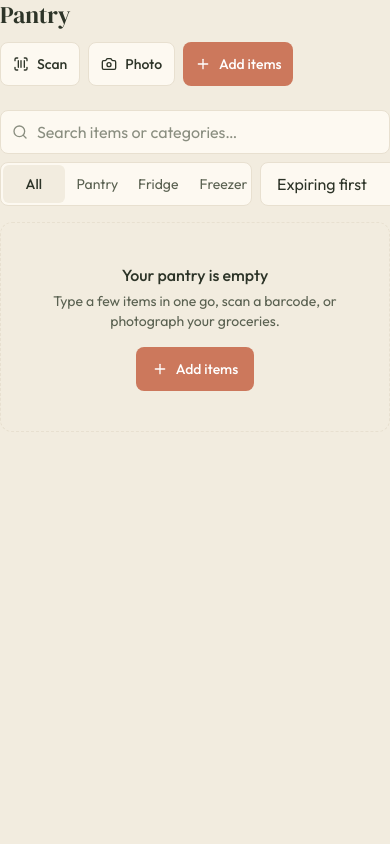
adds several typed items in one go, keeps the unsaved rows after a failure, and closes on success
Click the 1st button "Add items" at {"x": 238, "y": 64}, box x1=183 y1=42 x2=294 y2=86
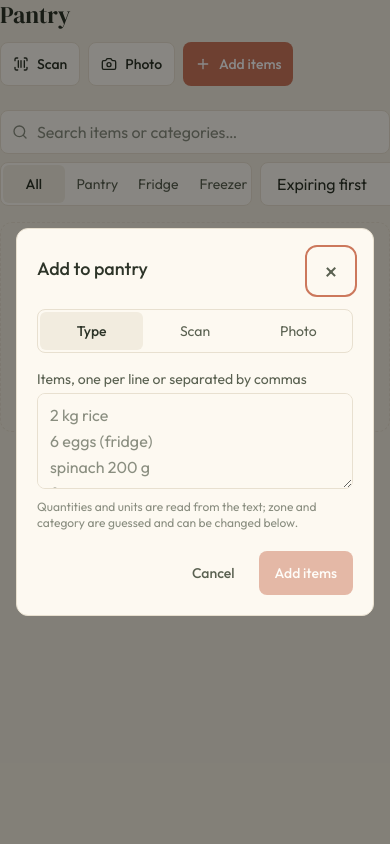
Type "2 kg rice, 6 eggs (fridge)" into the text box labelled "Items, one per line or separated by commas" at {"x": 195, "y": 441}, box x1=37 y1=393 x2=353 y2=489
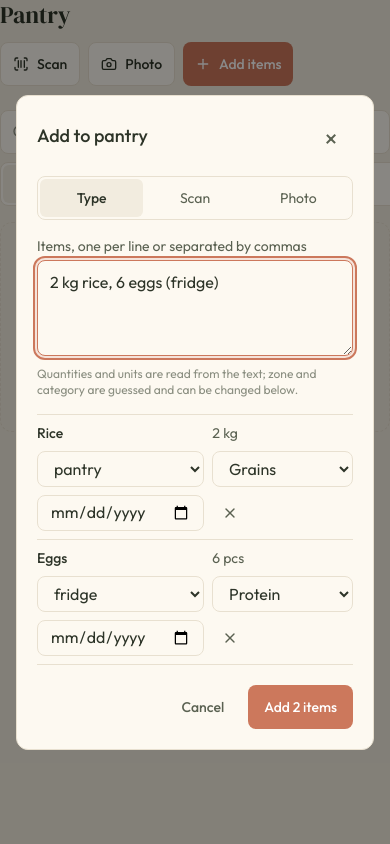
Now the text "Rice" is shown, box x1=37 y1=424 x2=63 y2=442
Now the dropdown named "Zone for Eggs" shows "fridge", box x1=37 y1=576 x2=204 y2=612
Click the button "Add 2 items" at {"x": 301, "y": 706}, box x1=248 y1=684 x2=353 y2=728
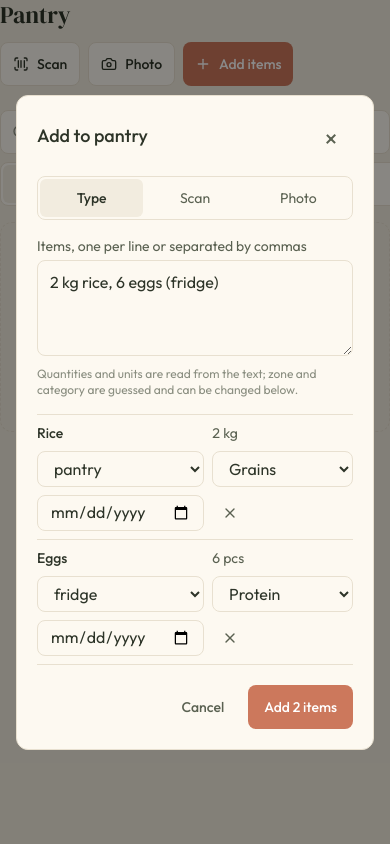
Now the dialog "Add to pantry" is shown
Now the button "Add 2 items" is shown
Click the button "Add 2 items" at {"x": 301, "y": 706}, box x1=248 y1=684 x2=353 y2=728
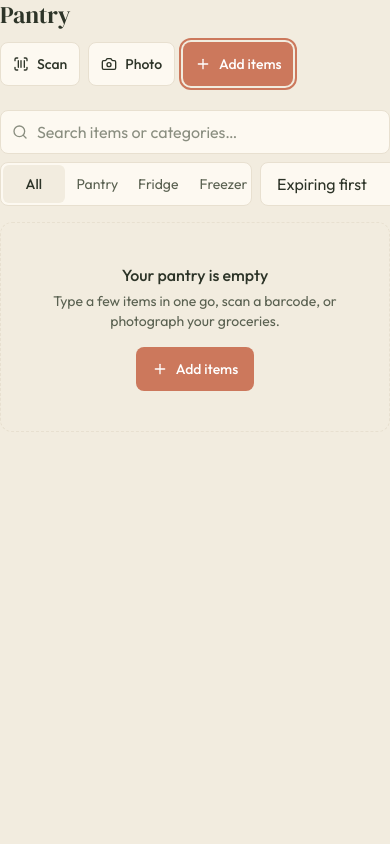
Now the heading "Add to pantry" is gone
